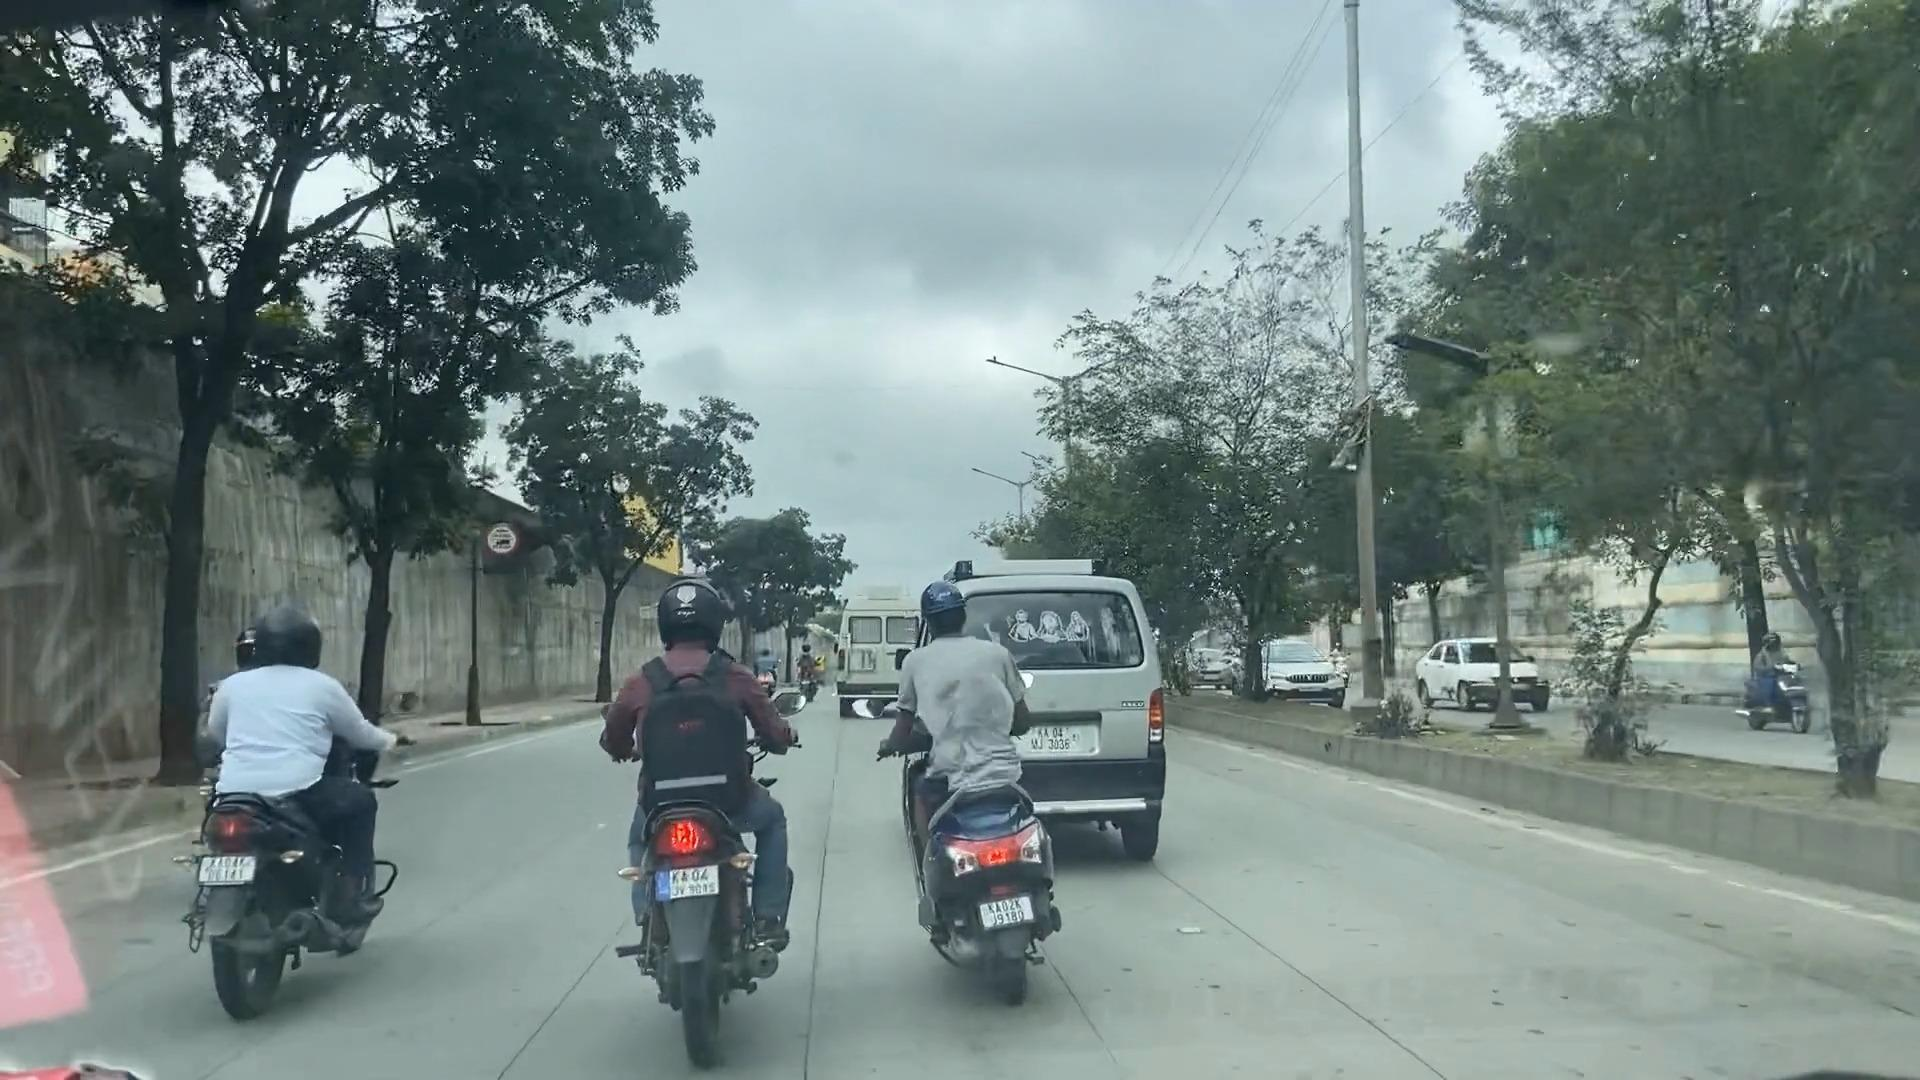LMV: (886, 596, 1059, 1051), (605, 585, 787, 997), (947, 546, 1166, 877), (245, 603, 373, 1005)
